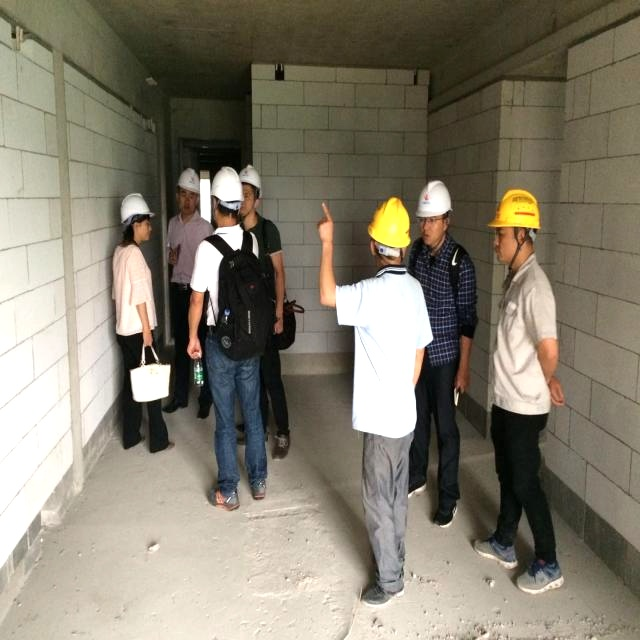Con_Casco: (493, 185, 542, 272), (370, 196, 414, 270), (416, 180, 455, 245), (119, 193, 155, 247)
Sin_Chaleco: (352, 275, 422, 433)
